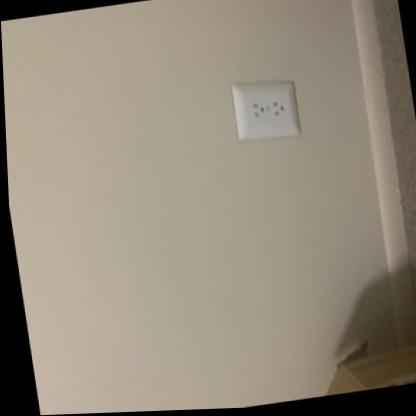OUTLET: (231, 73, 300, 144)
